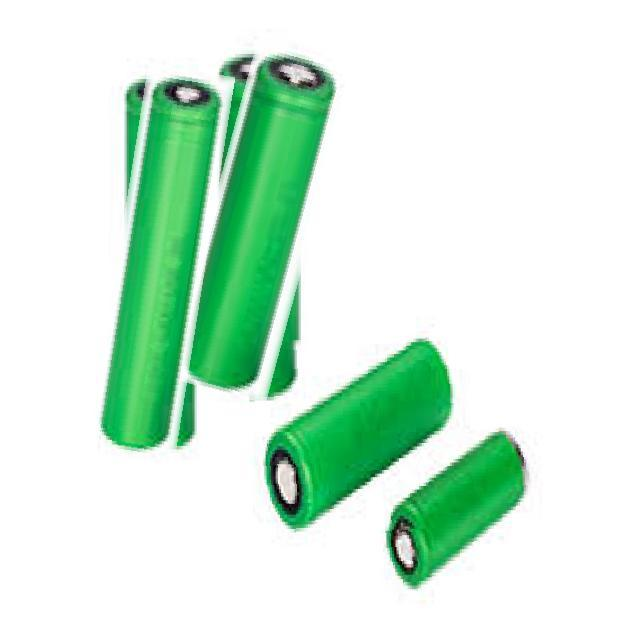Battery: (183, 36, 346, 395), (249, 303, 466, 548), (92, 66, 226, 445), (369, 414, 537, 596)
